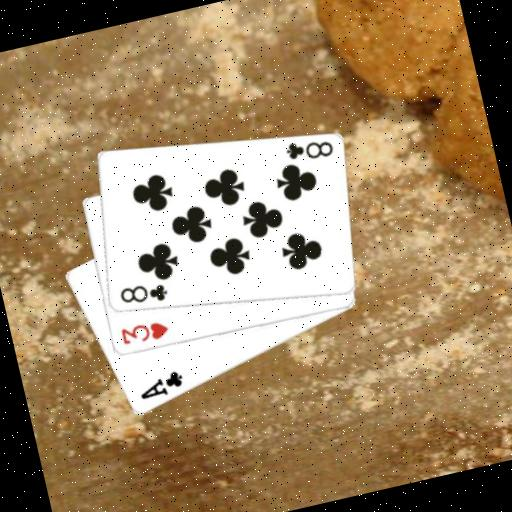3H: (118, 315, 172, 349)
8C: (115, 276, 171, 313), (280, 131, 336, 168)
AC: (133, 367, 187, 404)
